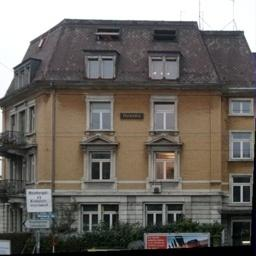building: (11, 21, 256, 256)
